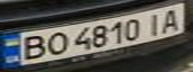0: (121, 16, 148, 42)
1: (106, 19, 127, 44)
4: (72, 25, 93, 52)
8: (90, 21, 112, 48)
A: (154, 6, 187, 35)
B: (15, 33, 51, 62)
I: (142, 10, 169, 36)
O: (42, 29, 69, 56)
